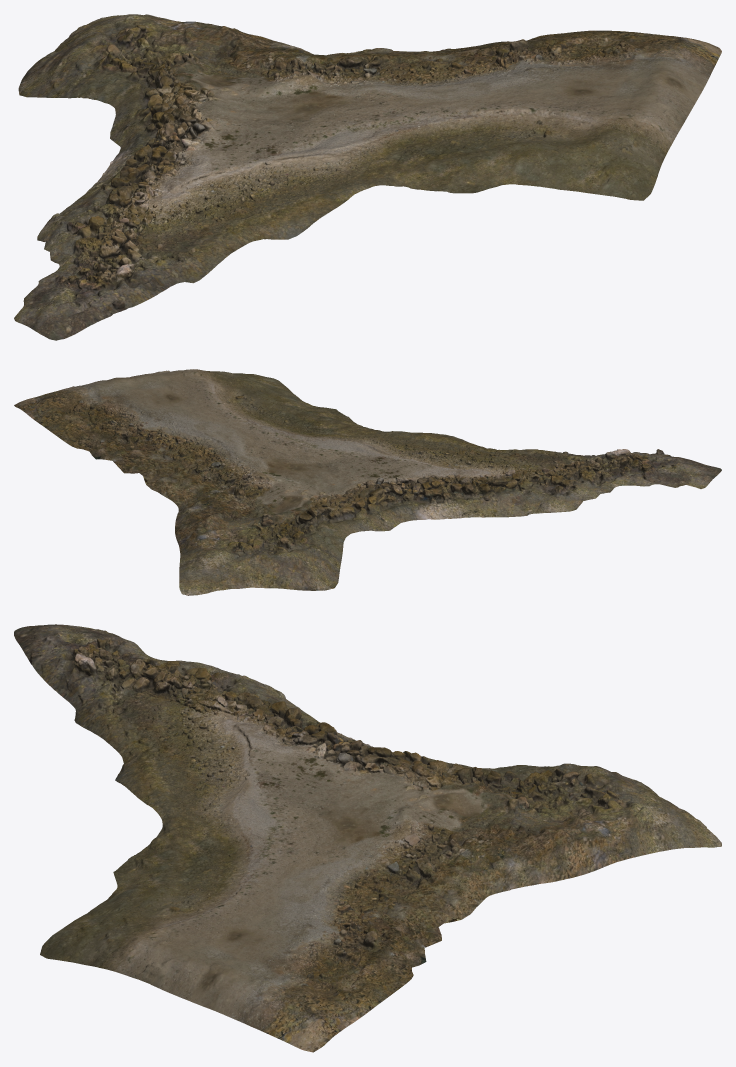
The model's file is coast_rocks_01_LOD0.glb.
3 views of the same model, one above another, from view 1: azimuth 30°, elevation 25°; view 2: azimuth 150°, elevation 25°; view 3: azimuth 270°, elevation 25° (orthographic). The views are drawn at different scales.
Parts seen in each view (by area): view 1: coast_rocks_01_LOD0; view 2: coast_rocks_01_LOD0; view 3: coast_rocks_01_LOD0.
Boxes of the visible parts, x1,y1,x2,y2 form: coast_rocks_01_LOD0: (14, 14, 721, 340); coast_rocks_01_LOD0: (14, 369, 721, 595); coast_rocks_01_LOD0: (14, 624, 721, 1052).
Size of the model in its own units: 59.51 by 3.29 by 42.52.
1 material, 1 textured.
